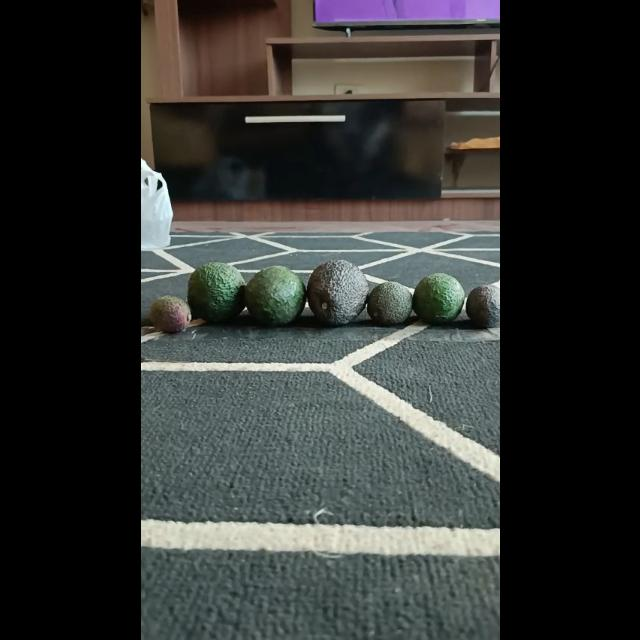Primera: (305, 259, 367, 325), (244, 266, 306, 326), (186, 262, 246, 322)
Segunda: (412, 272, 464, 324)
Tercera: (367, 281, 413, 325), (148, 294, 192, 334), (465, 284, 499, 328)
